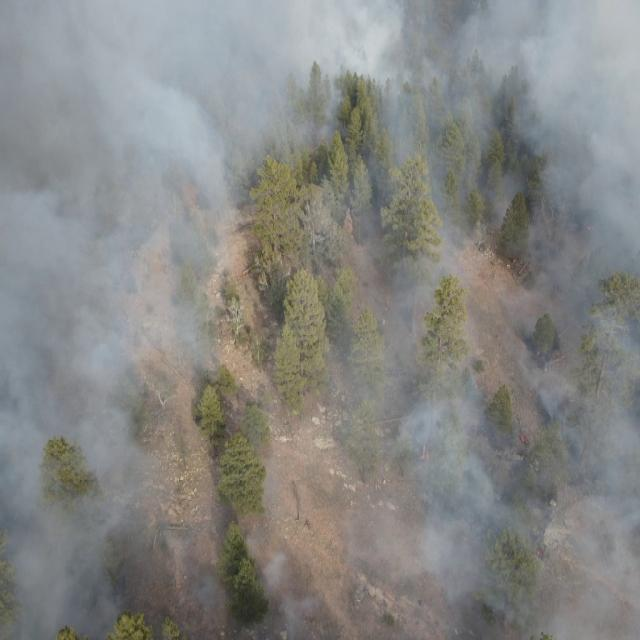fire: (514, 428, 532, 449), (418, 443, 433, 465)
smoke: (0, 0, 640, 640)
